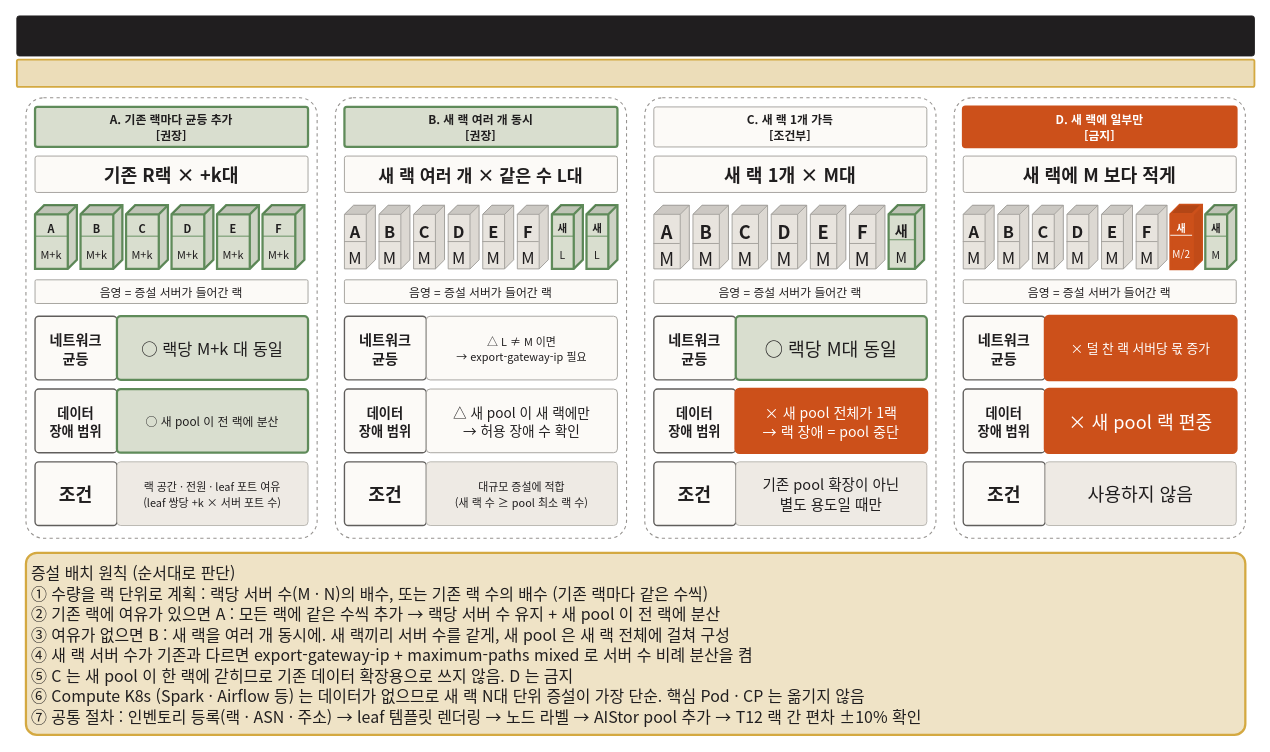
The diagram is 1270 pixels wide and 752 high, and some of its shapes have lost their labels. Here are the shapes that lost their labels. From the top down, the box of each, then its label:
(16, 15, 1254, 56): 그림 1-3. 서버 증설 배치 : Storage(AIStor) 서버 추가 (현재 R랙 × 랙당 M대)
(15, 58, 1255, 87): 네트워크 균등(랙당 서버 수)과 데이터 장애 범위(새 pool 의 랙 분산)를 동시에 만족하는 방식만 사용
